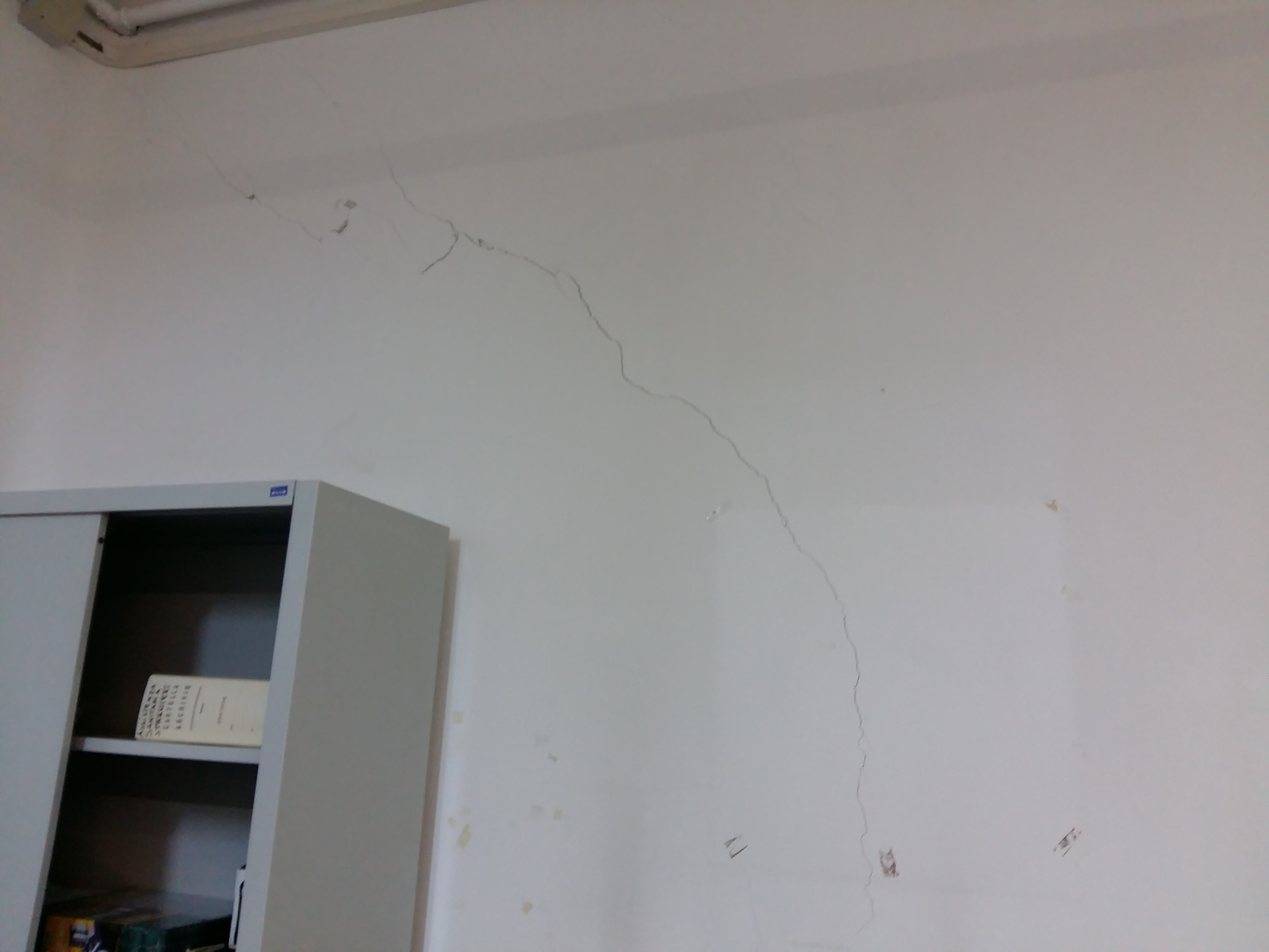Crack: (142, 74, 955, 899)
